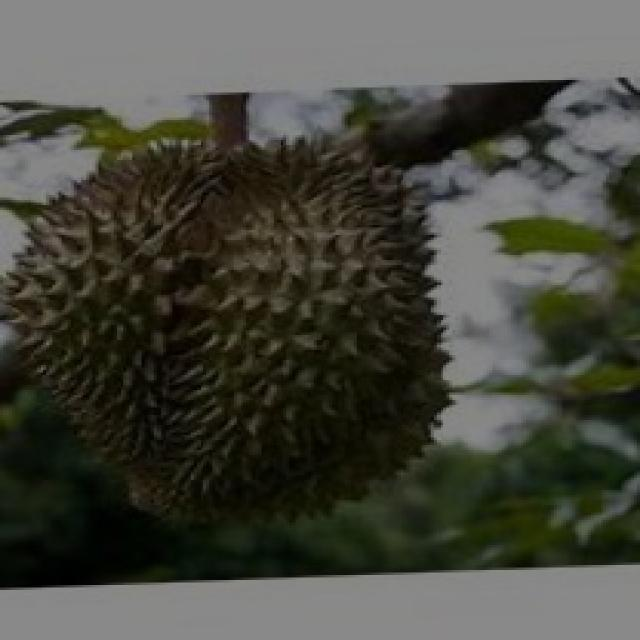fruit: (0, 113, 443, 565)
